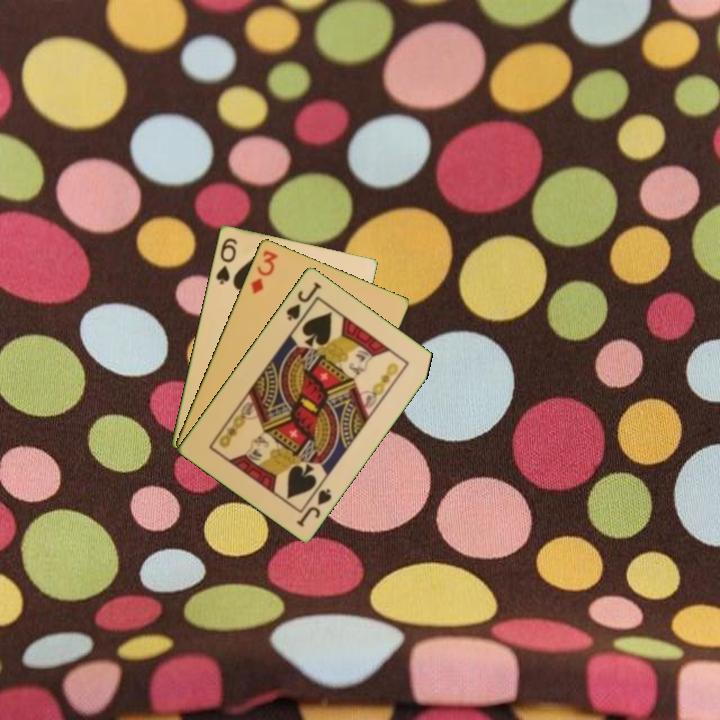3d: (247, 246, 281, 297)
6s: (212, 234, 240, 287)
Js: (292, 479, 335, 530), (283, 278, 324, 323)
